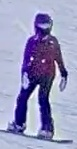snowboarder: (0, 13, 75, 145)
